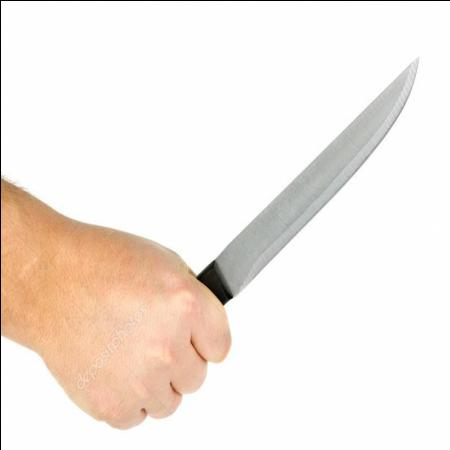long weapon: (165, 53, 424, 406)
